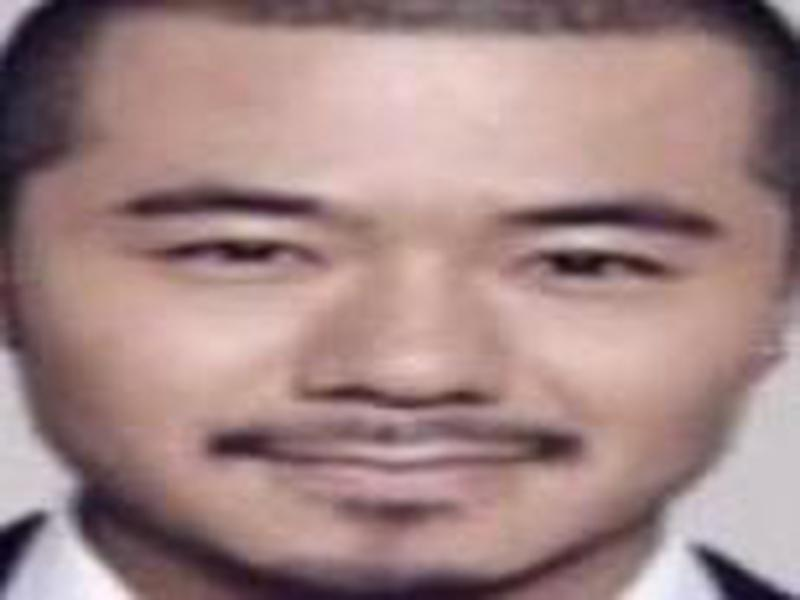without_mask: (26, 25, 762, 593)
